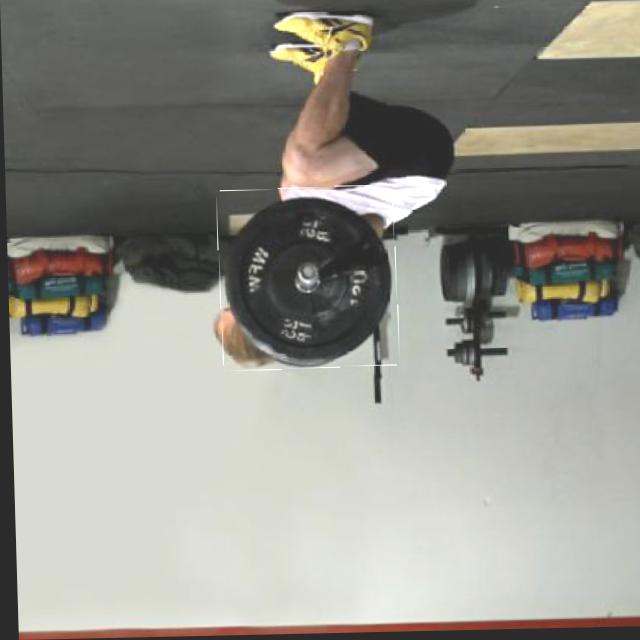barbell: (217, 188, 399, 373)
